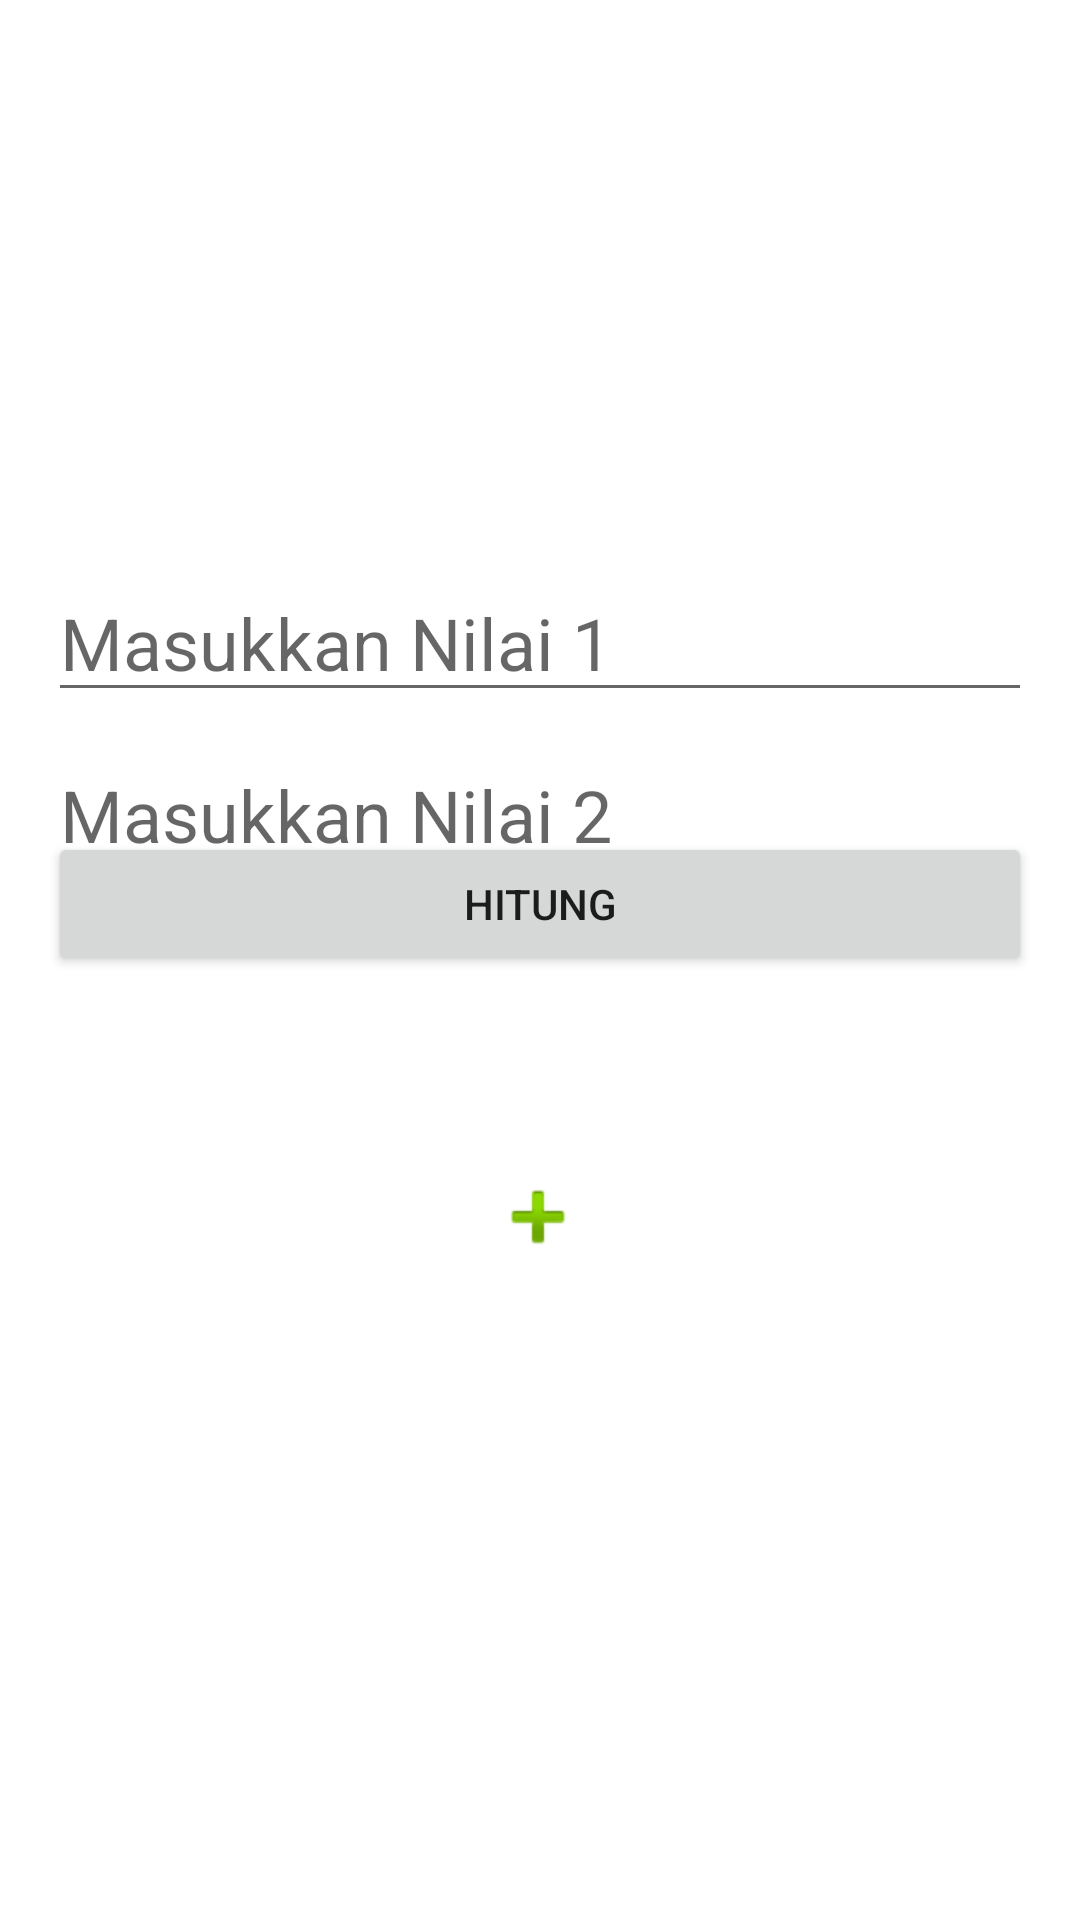

Icon click points for this 1080x1920 phone screenshot, format (x,y):
add: (538,1217)
